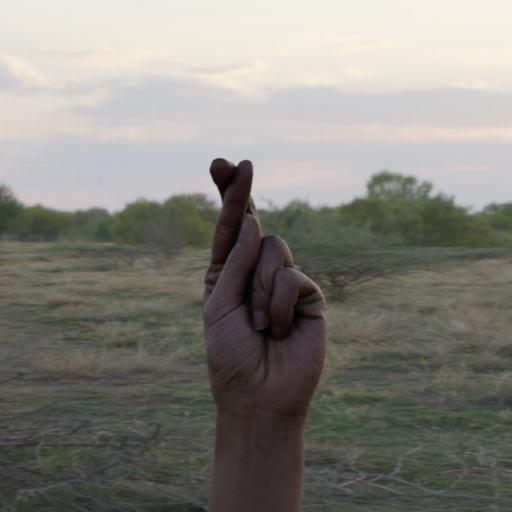R: (179, 146, 343, 512)
